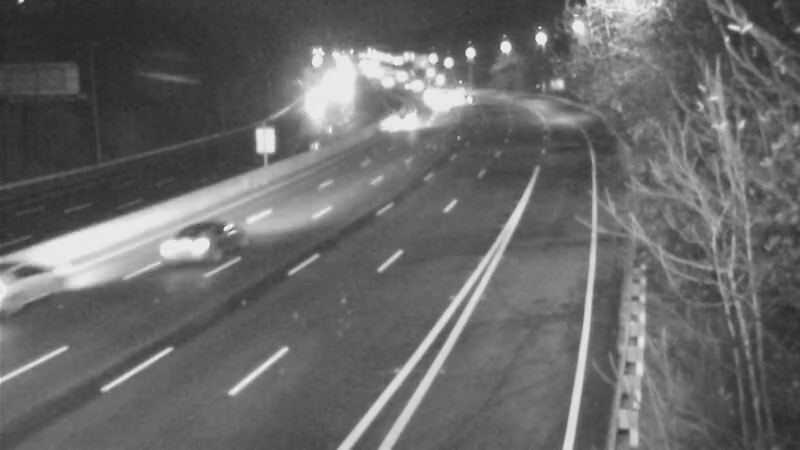vehicle: (142, 210, 222, 290), (1, 251, 68, 331), (375, 97, 425, 147), (284, 81, 334, 131)
